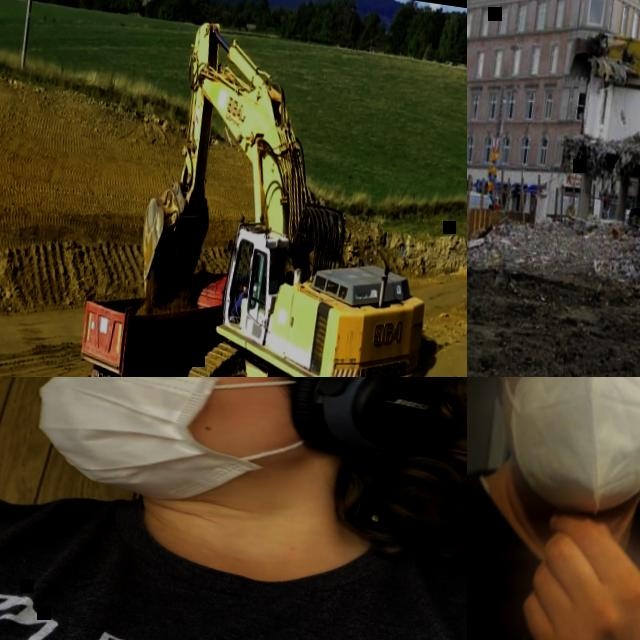Mask: (27, 377, 317, 519), (494, 377, 640, 520)
NO-Safety Vest: (0, 471, 467, 640), (467, 465, 640, 640)
Person: (0, 377, 467, 640), (467, 377, 640, 640), (231, 275, 260, 320)
machinery: (115, 13, 466, 377), (70, 253, 232, 377), (568, 23, 640, 241)
vehicle: (467, 183, 494, 214)
